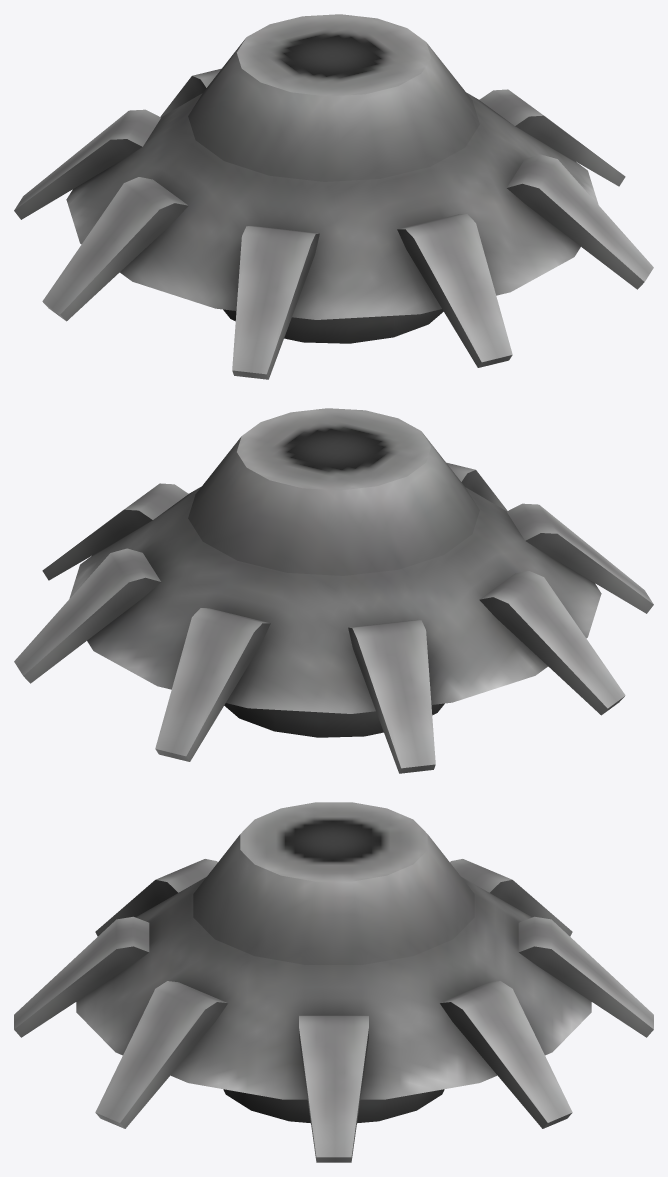
File: octans_docking_port_s0p5_1_guide.obj
3 views of the same model, one above another, from view 1: azimuth 30°, elevation 25°; view 2: azimuth 150°, elevation 25°; view 3: azimuth 270°, elevation 25° (orthographic). The views are drawn at different scales.
Parts seen in each view (by area): view 1: guide; view 2: guide; view 3: guide.
Part boxes in pixels (x1=…): guide: x1=14, y1=14, x2=653, y2=379; guide: x1=14, y1=408, x2=653, y2=773; guide: x1=14, y1=802, x2=653, y2=1162.
Size of the model in its own units: 0.3414 by 0.1375 by 0.3414.
